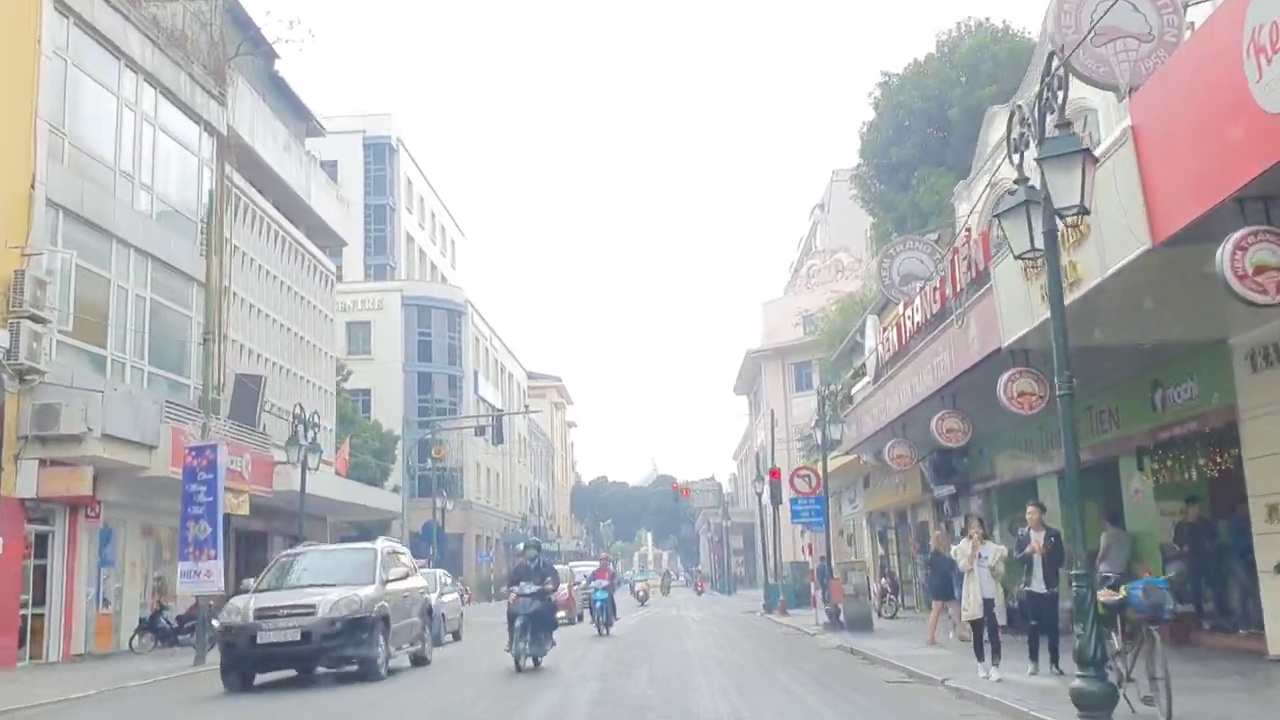person: (256, 630, 300, 643)
